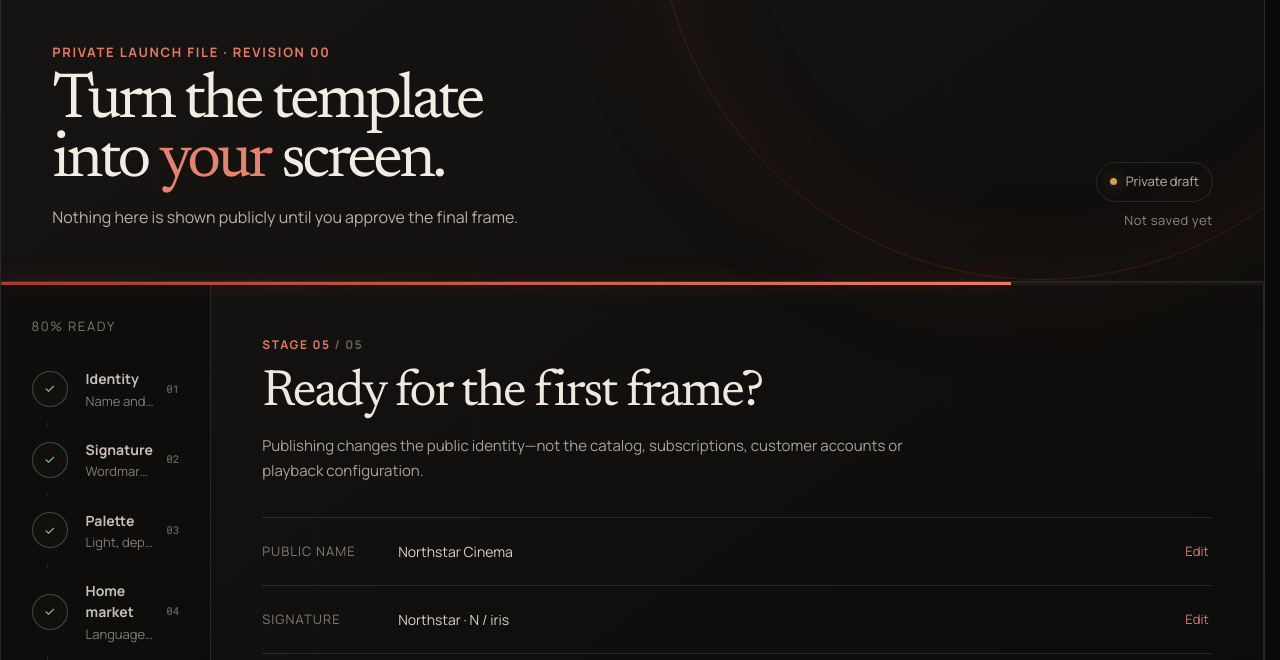
Test: LaunchSetupWizard › describes the home market honestly without treating it as a rights territory
What coordinates should you click on to do the following:
click the button "✓ Home market Language, region and currency 04"
I would click on:
 (106, 612)
Its box is [19,568,192,655].
(page scrolled)
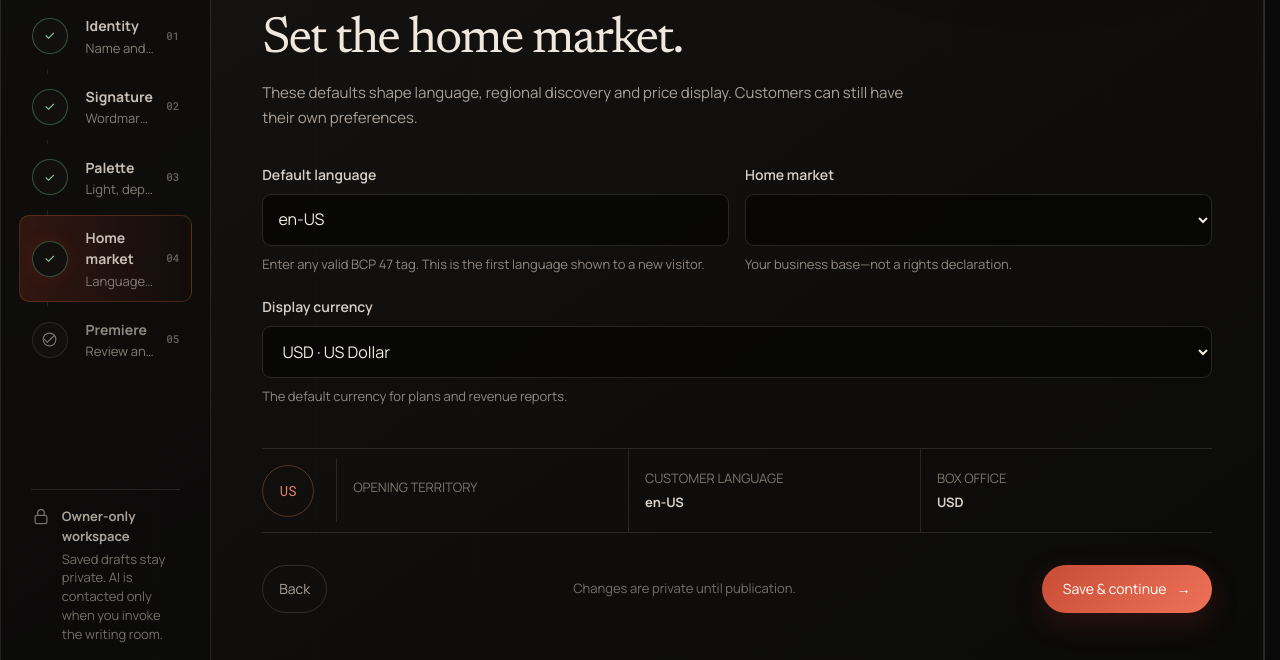
expect the text "Your business base—not a rights declaration." is shown: met, box [745,255,1012,273]
expect the field labelled "Default language" holds "en-US": met, box [262,194,729,246]
expect the dropdown labelled "Display currency" shows "USD · US Dollar": met, box [262,326,1212,378]
